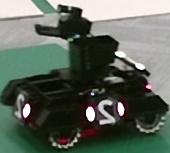armor_2: (85, 102, 125, 122)
left_2: (95, 97, 121, 127)
light: (115, 50, 146, 70)
